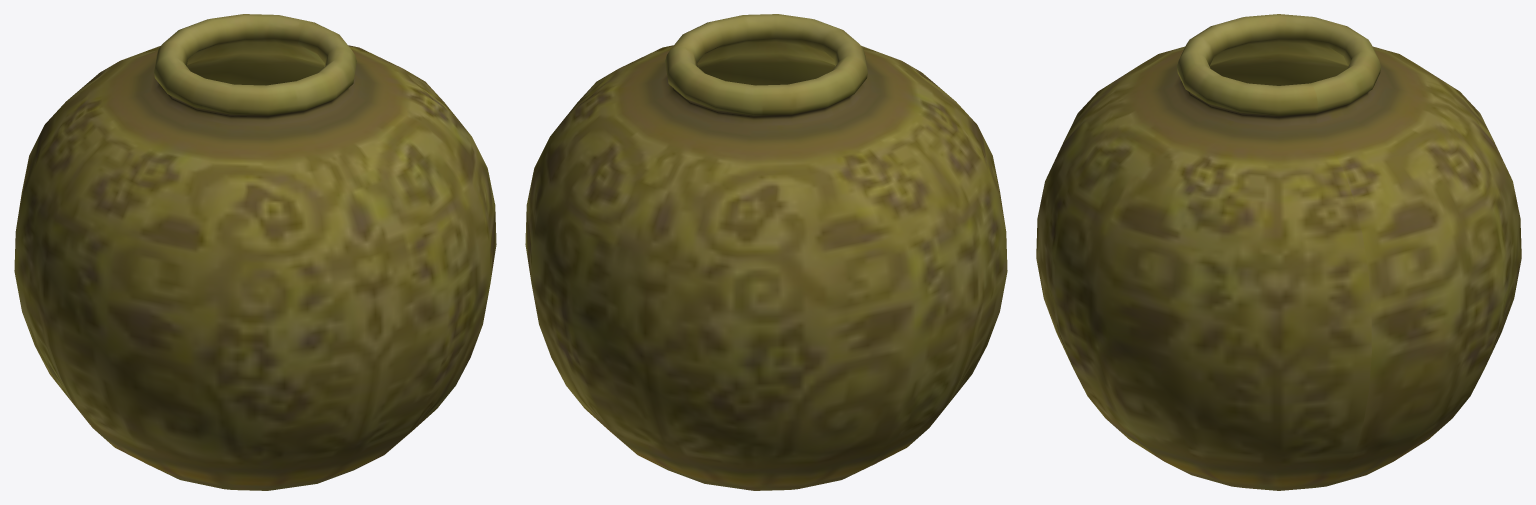
The picture shows the model from 3 angles, left to right: view 1: azimuth 30°, elevation 25°; view 2: azimuth 150°, elevation 25°; view 3: azimuth 270°, elevation 25°; orthographic projection.
Size of the model in its own units: 6.72 by 6.12 by 6.72.
Materials: 1 (1 with a texture image).
